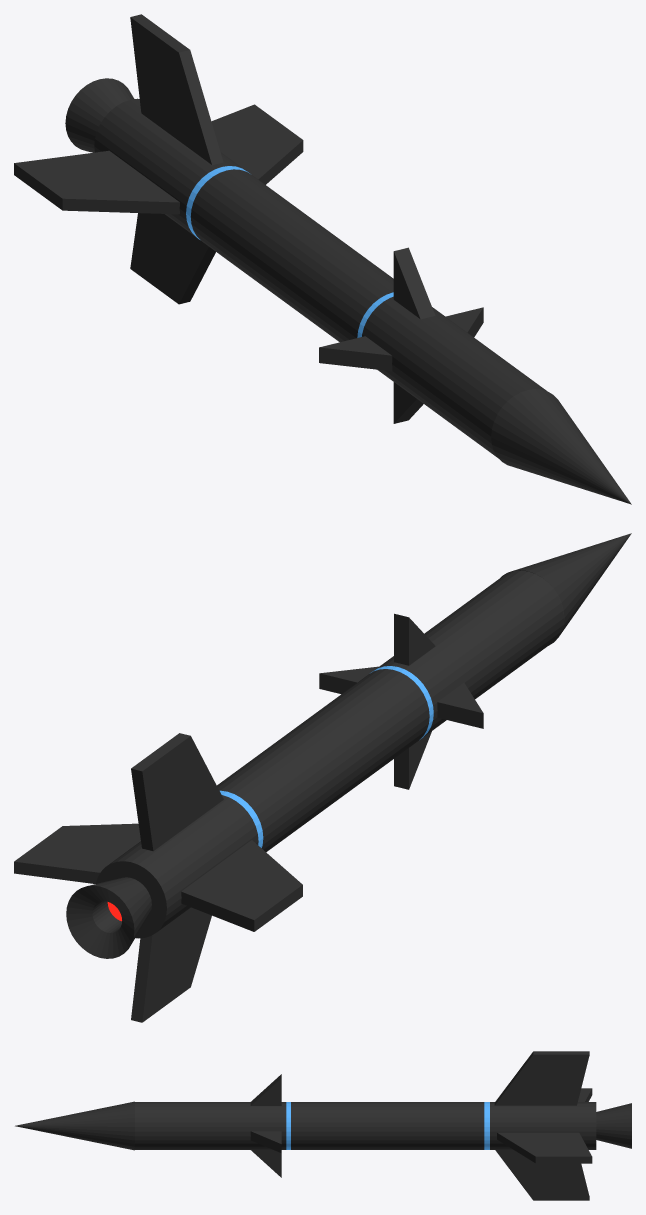
Rendered from Terran_Missile_Small.fbx.
3 views of the same model, one above another, from view 1: azimuth 30°, elevation 25°; view 2: azimuth 150°, elevation 25°; view 3: azimuth 270°, elevation 25° (orthographic). The views are drawn at different scales.
Parts seen in each view (by area): view 1: Body; view 2: Body; view 3: Body.
Boxes of the visible parts, x1,y1,x2,y2 form: Body: (14, 14, 631, 504); Body: (14, 533, 631, 1022); Body: (15, 1051, 631, 1200).
Bounding box in the file's own units: 60.8 × 60.8 × 233.
